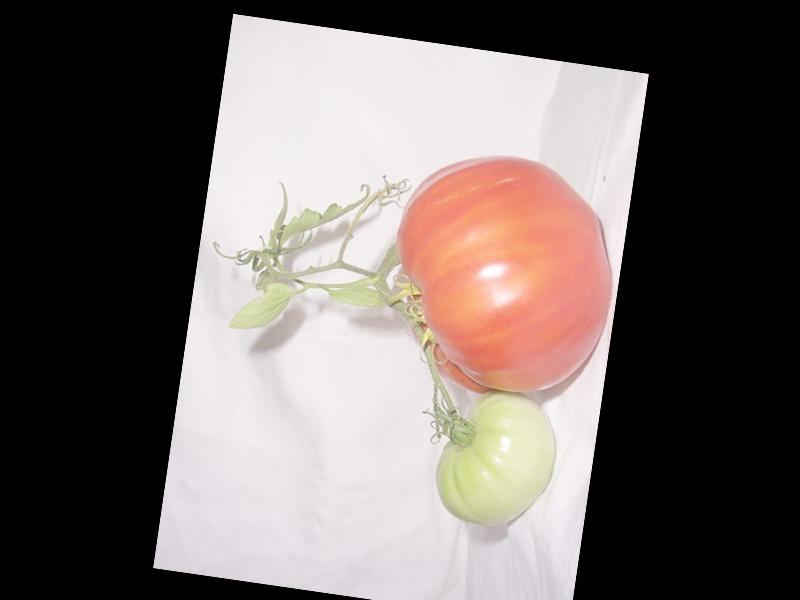Tomato: (376, 141, 627, 410)
